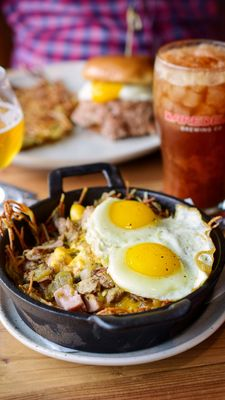pizza: (153, 38, 225, 221)
sushi: (0, 175, 221, 356), (1, 67, 26, 170)
